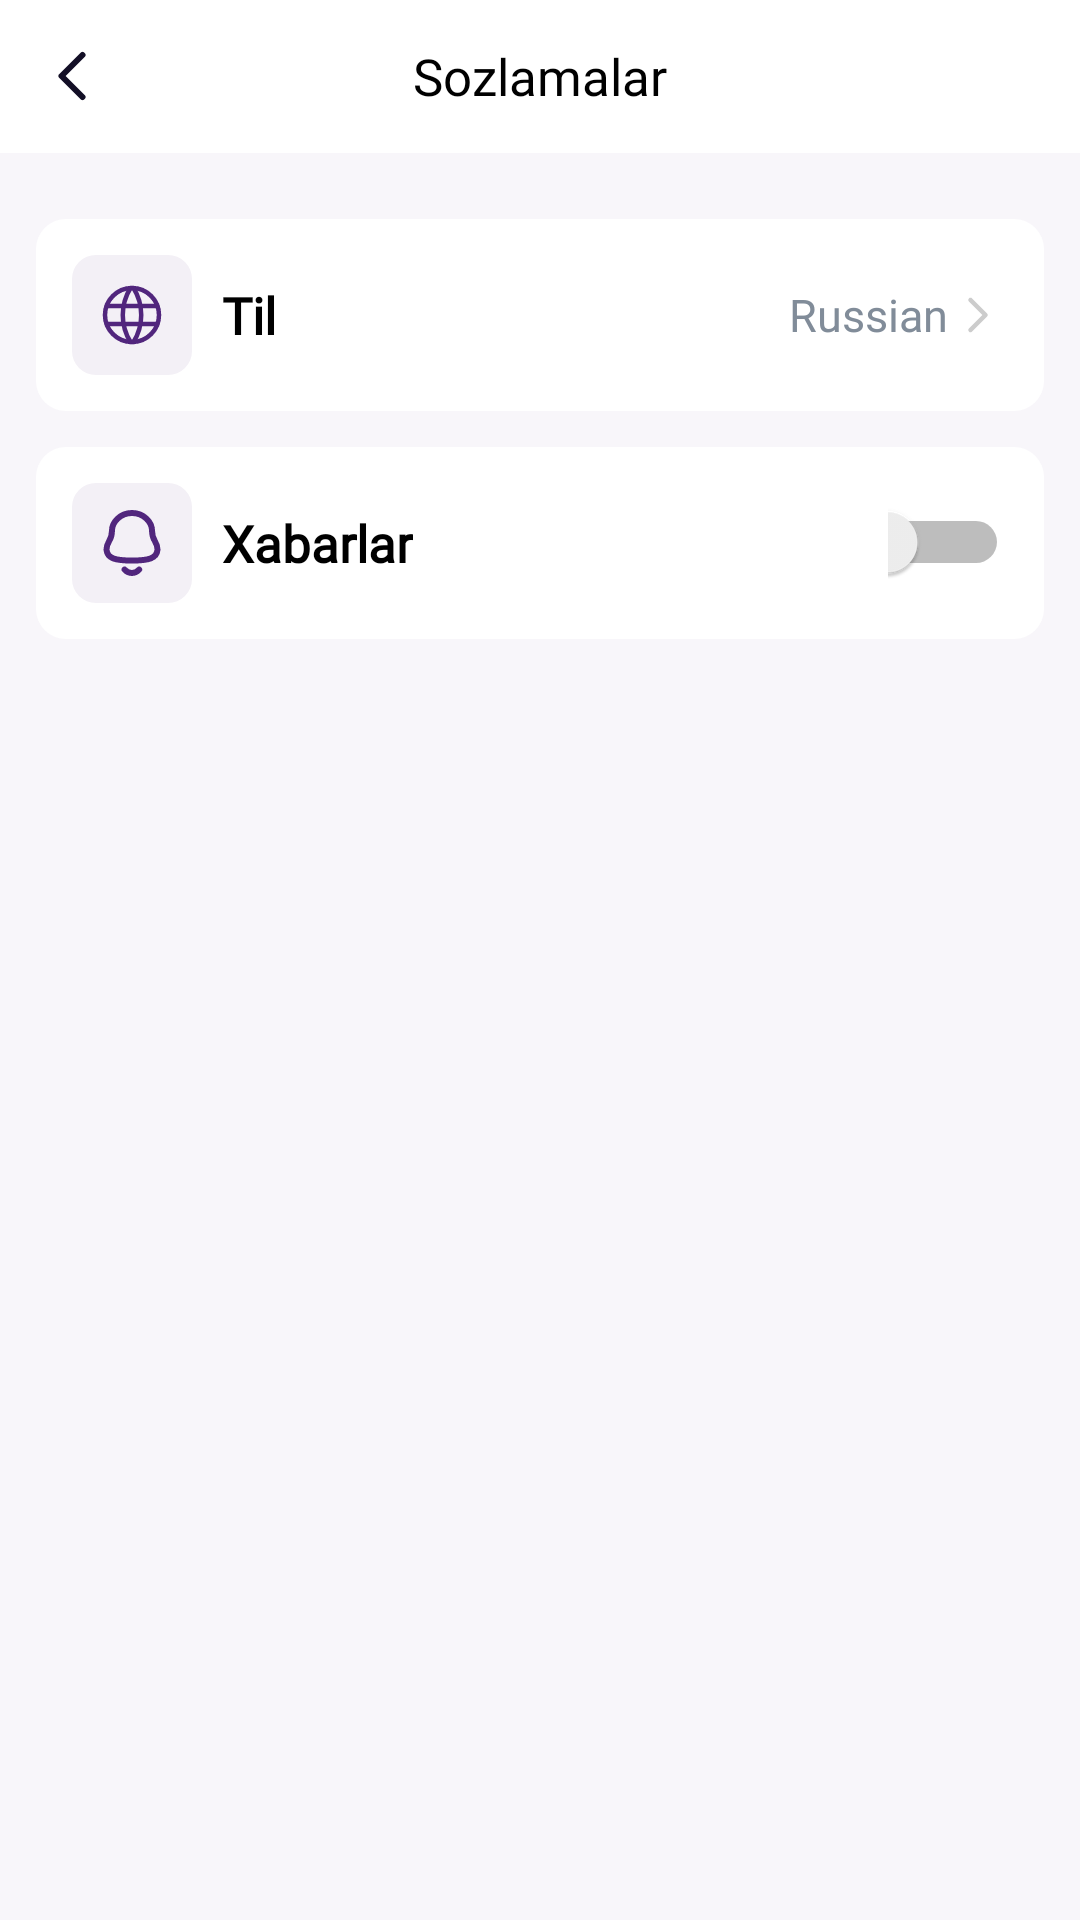

Screen size 1080px x 1920px. Icon name, then its box in pixels as (x1, y1, x2, y2):
back: (58, 51, 86, 101)
language: (102, 285, 162, 345)
next: (968, 298, 988, 332)
notification: (72, 483, 192, 603)
